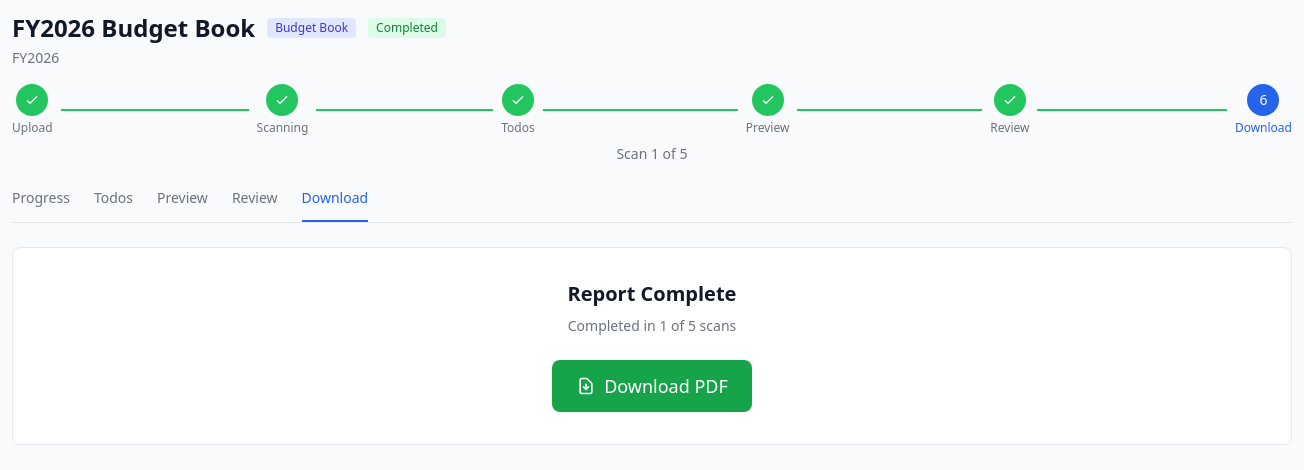
ReportDetailPage › renders WCAG review in review tab
Click the button "Review": (255, 205) [232, 188, 278, 222]
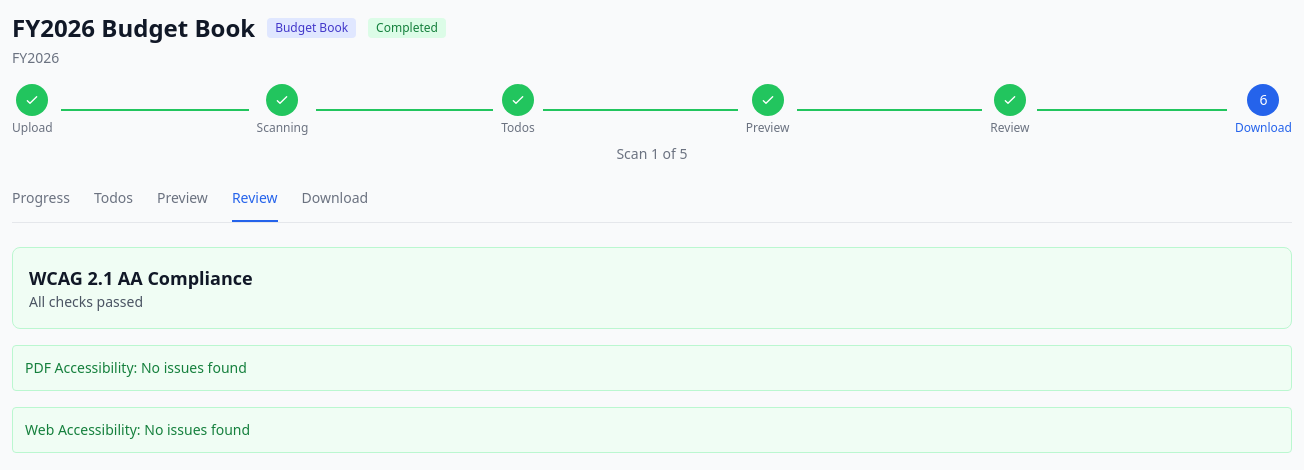
Result: the heading "WCAG 2.1 AA Compliance" is shown at [29, 266, 253, 290]
